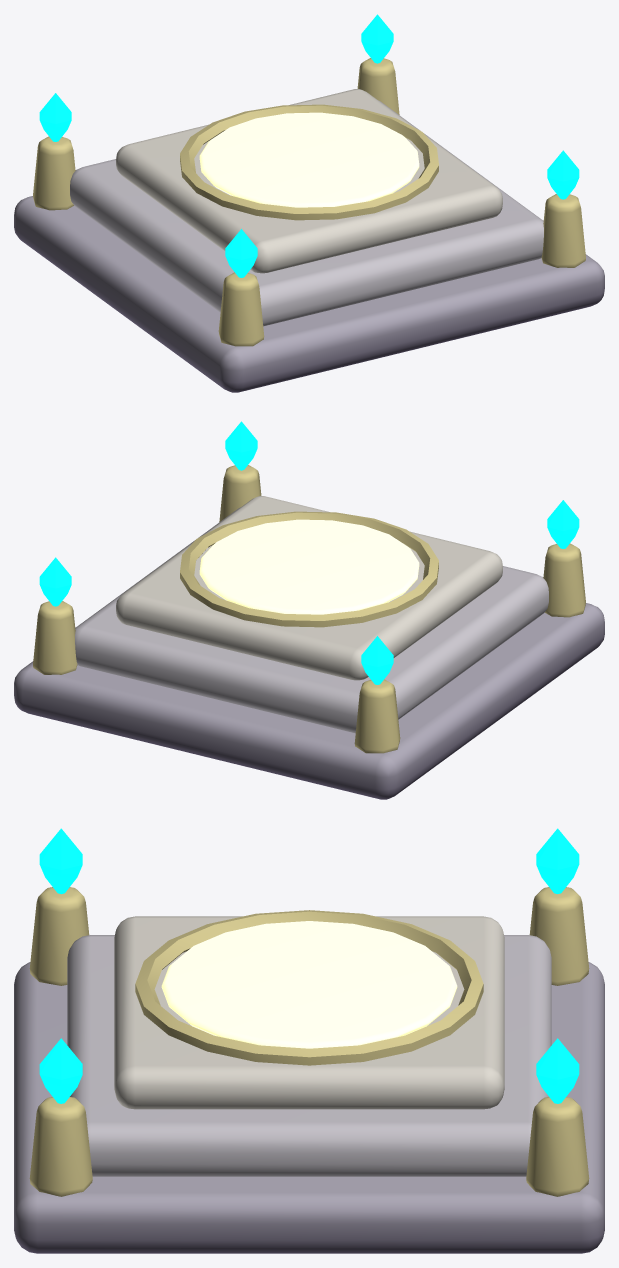
The model's file is titanAltar.glb.
3 views of the same model, one above another, from view 1: azimuth 30°, elevation 25°; view 2: azimuth 150°, elevation 25°; view 3: azimuth 270°, elevation 25° (orthographic). The views are drawn at different scales.
Visible parts, largest first — view 1: Body, Glow_FFB347, Glow_00E5FF; view 2: Body, Glow_FFB347, Glow_00E5FF; view 3: Body, Glow_FFB347, Glow_00E5FF.
Boxes of the visible parts, x1,y1,x2,y2 form: Body: (14,58,604,392); Glow_FFB347: (199,112,419,207); Glow_00E5FF: (39,14,579,277); Body: (14,465,604,799); Glow_FFB347: (199,519,419,614); Glow_00E5FF: (39,421,579,684); Body: (14,887,604,1253); Glow_FFB347: (161,921,457,1048); Glow_00E5FF: (39,828,579,1103).
Bounding box in the file's own units: 10 × 3.8 × 10.
